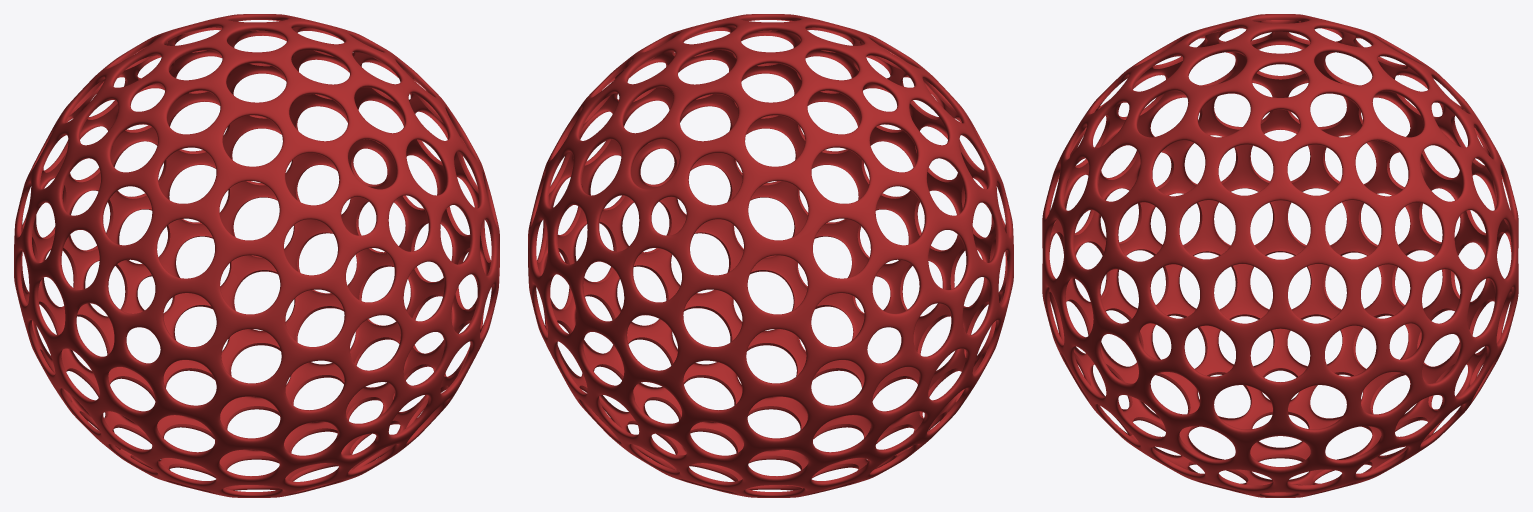
Rendered from hollow_sphere.glb.
3 views of the same model, side by side, from view 1: azimuth 30°, elevation 25°; view 2: azimuth 150°, elevation 25°; view 3: azimuth 270°, elevation 25° (orthographic).
Parts seen in each view (by area): view 1: Object_2, Object_3; view 2: Object_3, Object_2; view 3: Object_2, Object_3.
Boxes of the visible parts, x1,y1,x2,y2 form: Object_2: (14,18,499,497); Object_3: (14,14,499,497); Object_3: (528,14,1013,487); Object_2: (528,14,1013,497); Object_2: (1042,14,1518,497); Object_3: (1042,14,1518,497).
Size of the model in its own units: 198 by 198 by 198.
